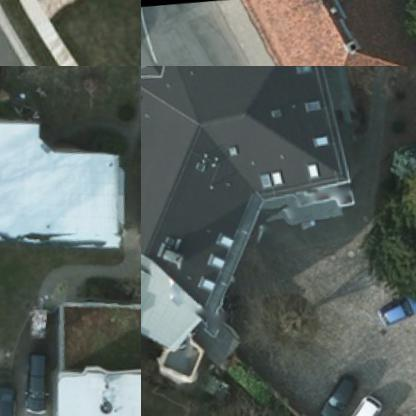car: (312, 367, 358, 415), (17, 348, 49, 413), (372, 284, 415, 327), (339, 388, 383, 415), (0, 382, 18, 415)
